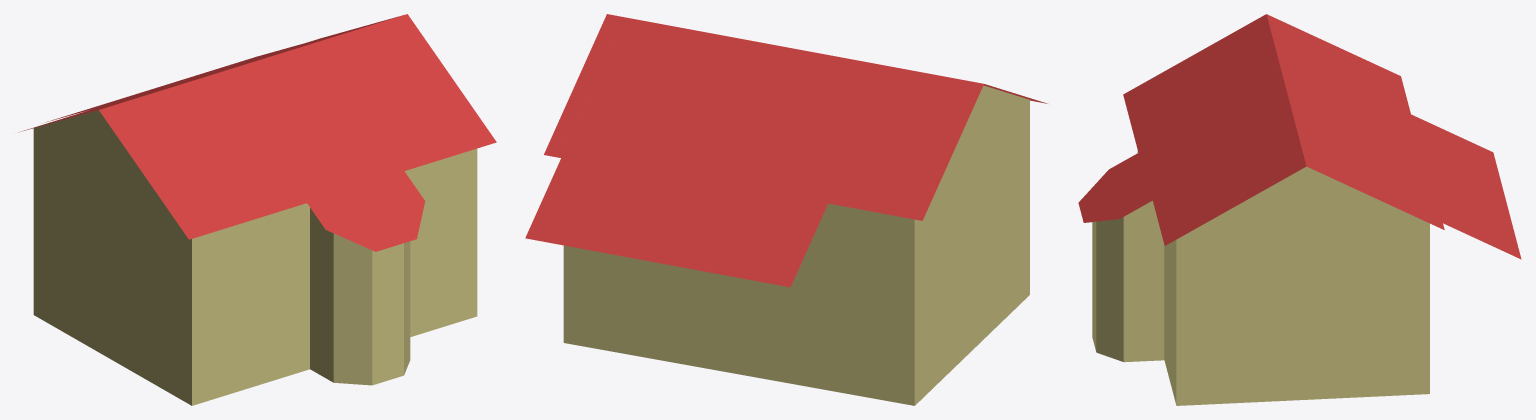
The picture shows the model from 3 angles, left to right: view 1: azimuth 30°, elevation 25°; view 2: azimuth 150°, elevation 25°; view 3: azimuth 270°, elevation 25°; orthographic projection. The views are drawn at different scales.
Size of the model in its own units: 14.73 by 16.67 by 9.92.
